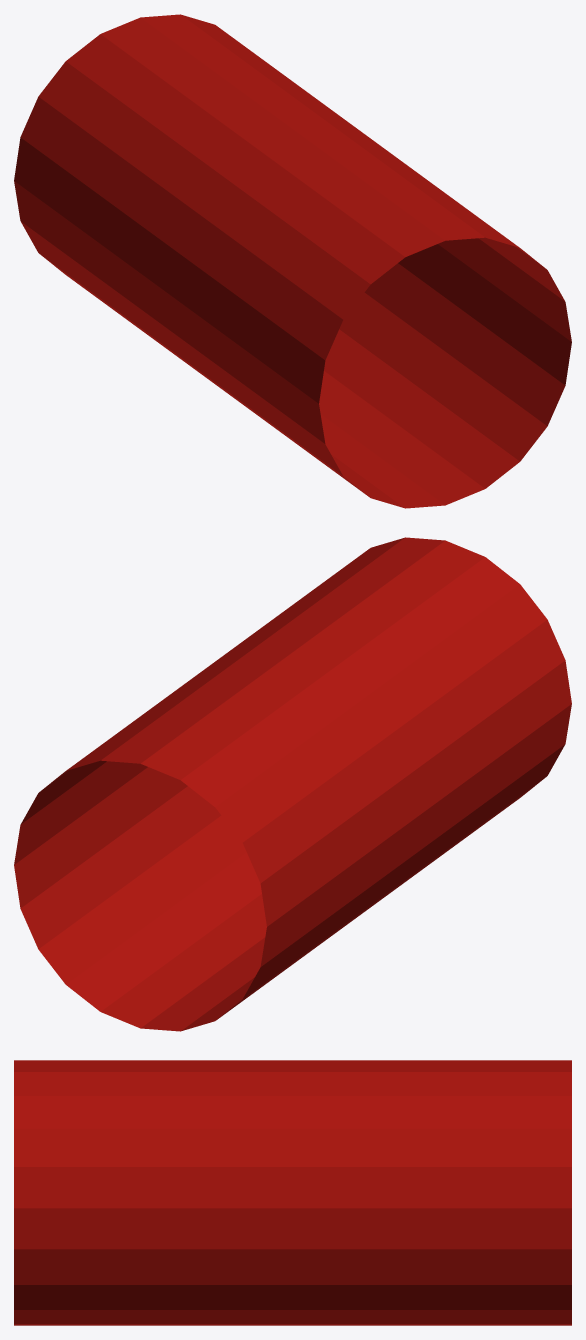
Rendered from Vessel_straight_150_outside.fbx.
3 views of the same model, one above another, from view 1: azimuth 30°, elevation 25°; view 2: azimuth 150°, elevation 25°; view 3: azimuth 270°, elevation 25° (orthographic). The views are drawn at different scales.
Visible parts, largest first — view 1: Vessel_straight__150; view 2: Vessel_straight__150; view 3: Vessel_straight__150.
Boxes of the visible parts, x1=… form: Vessel_straight__150: x1=14, y1=14, x2=571, y2=508; Vessel_straight__150: x1=14, y1=537, x2=571, y2=1031; Vessel_straight__150: x1=14, y1=1060, x2=571, y2=1325.
Size of the model in its own units: 9.58 by 9.58 by 20.
